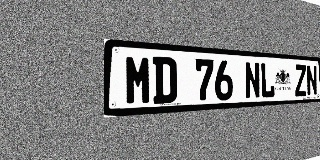6: (215, 60, 233, 101)
7: (194, 59, 214, 102)
D: (153, 56, 177, 104)
L: (260, 62, 275, 98)
M: (125, 55, 152, 105)
N: (244, 61, 260, 99), (306, 65, 317, 96)
Z: (295, 64, 307, 97)
